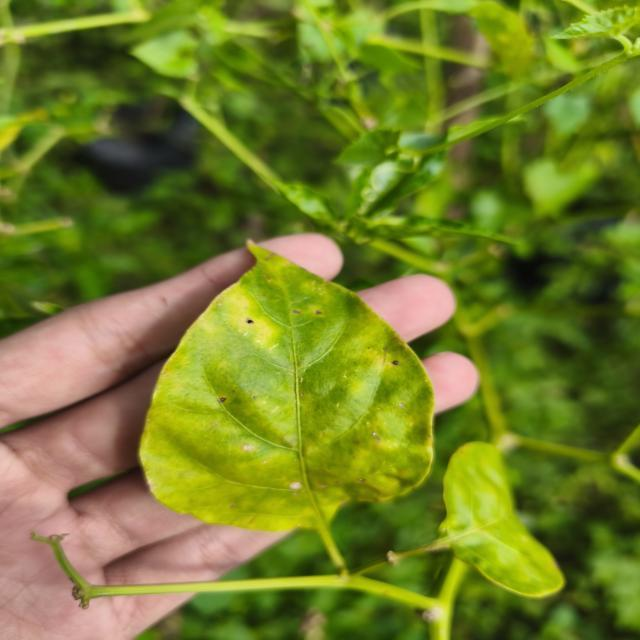Virus Kuning: (136, 237, 436, 533)
